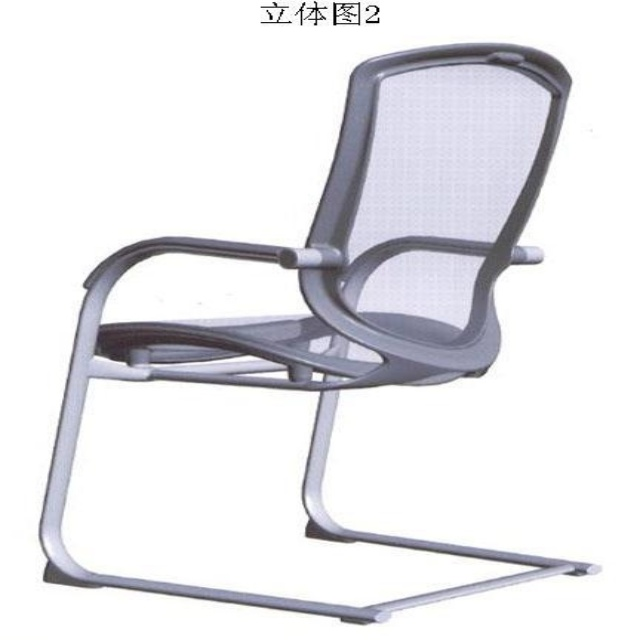obstacle: (40, 43, 599, 622)
